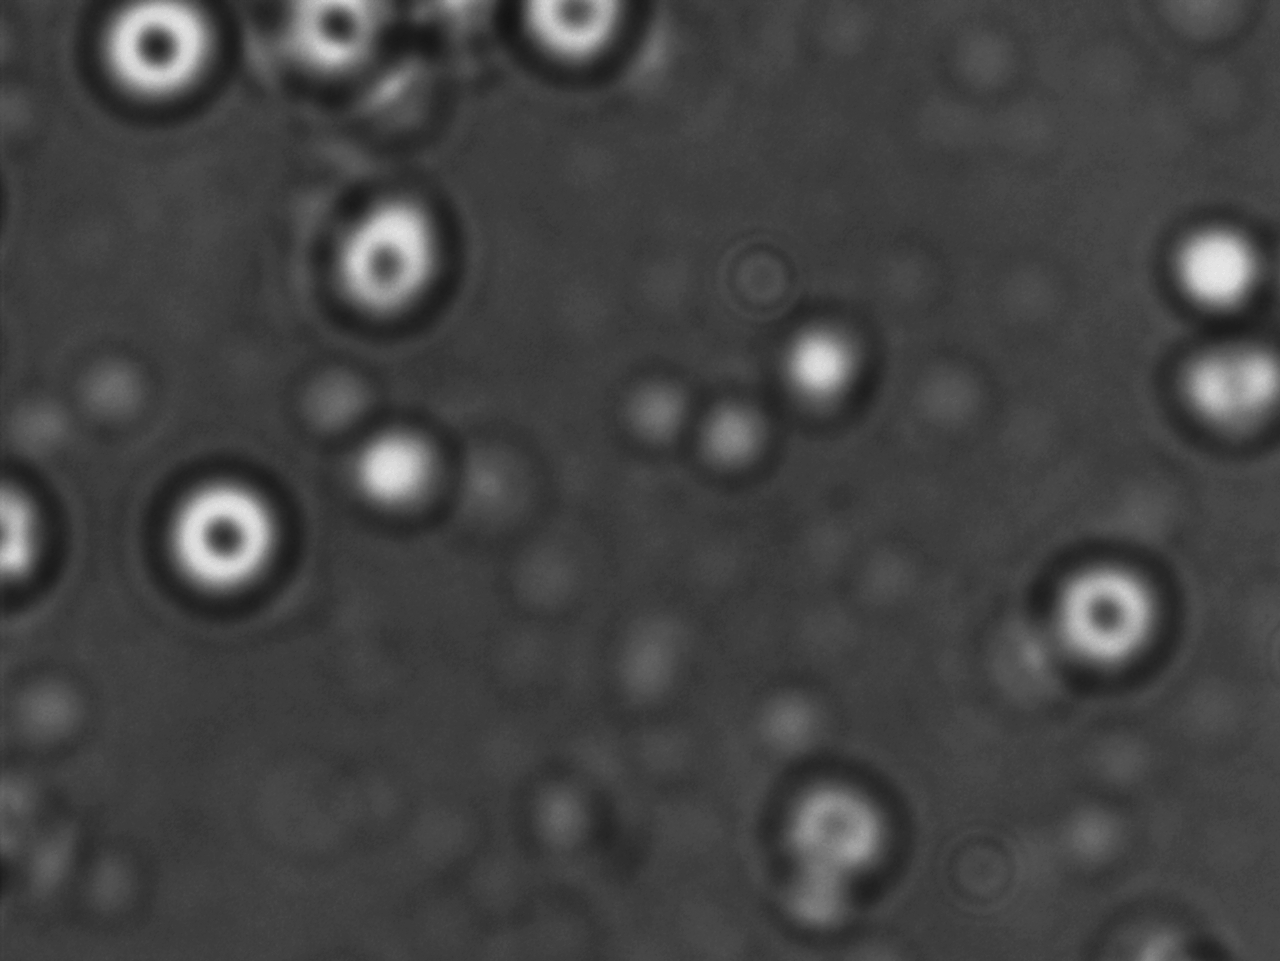depth:32: (1031, 530, 1191, 697), (309, 182, 478, 338), (137, 458, 300, 617)
